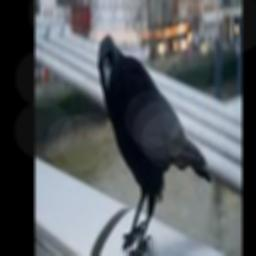Crow: (99, 36, 211, 256)
